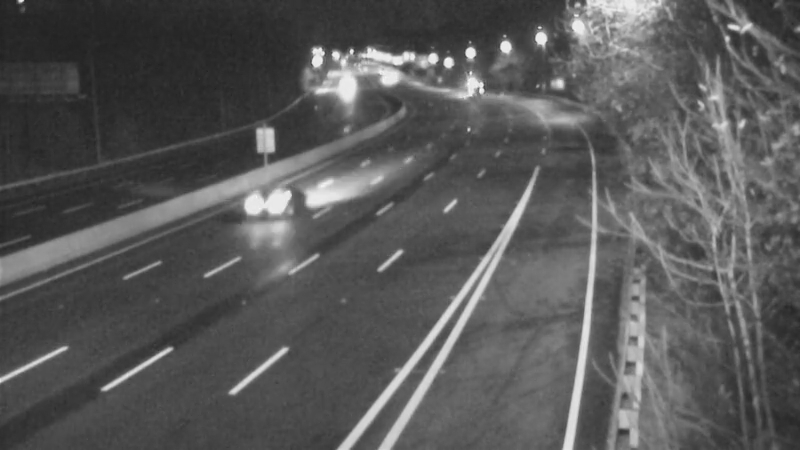vehicle: (242, 160, 322, 240), (360, 55, 410, 105), (447, 63, 497, 113), (320, 61, 370, 111)
